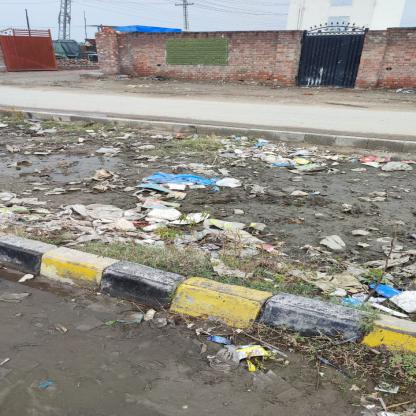Garbage: (10, 188, 380, 259), (134, 127, 416, 176)
